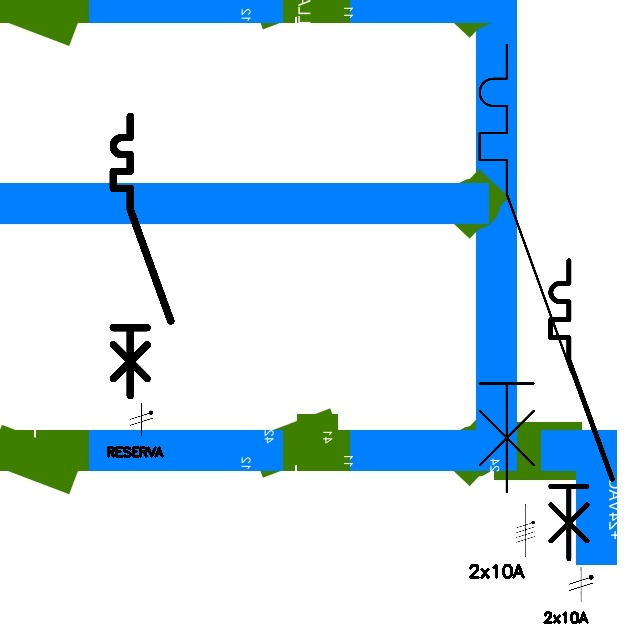interruptor_termomagnetico: (468, 33, 583, 504), (543, 253, 620, 567), (106, 109, 178, 403)
